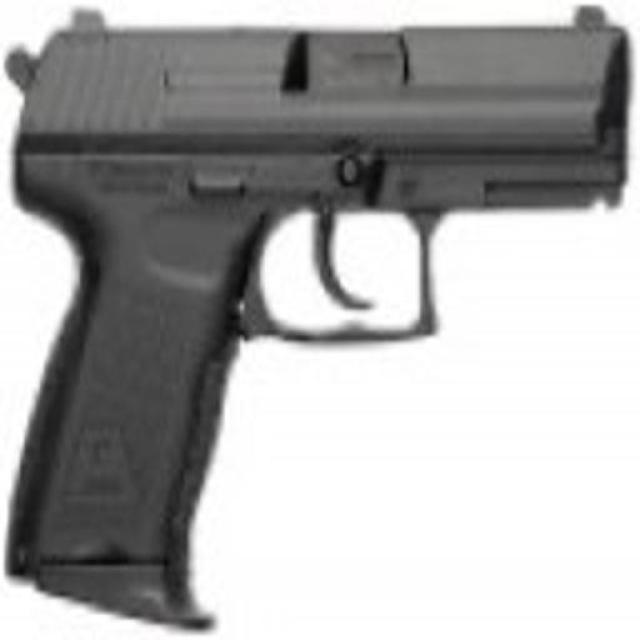pistol: (4, 5, 620, 612)
